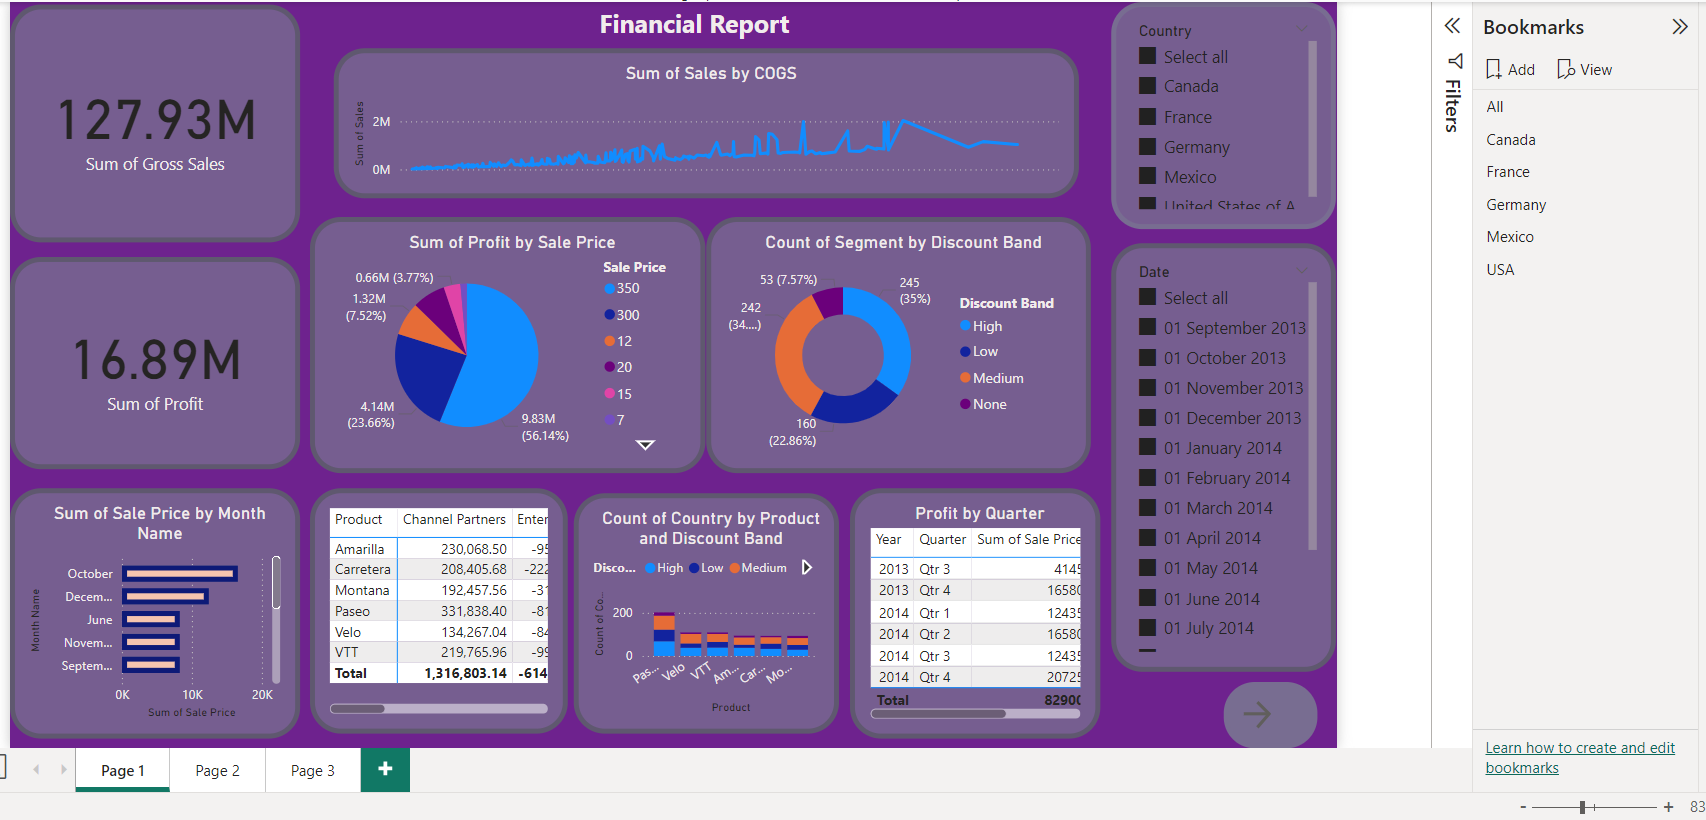

The dashboard page shown, as its layout file describes it:
{"tool":"powerbi","page":{"name":"Page 1","canvas":[1280,720],"ordinal":0},"visuals":[{"type":"tableEx","title":"Profit by Quarter","fields":{"Values":["Sheet1.Date.Variation.Date Hierarchy.Year","Sheet1.Date.Variation.Date Hierarchy.Quarter","Sum(Sheet1.Sale Price)","Sum(Sheet1.Profit)"]},"box":[810.7,469.3,241.3,241.3],"z":0},{"type":"card","fields":{"Values":["Sum(Sheet1.Gross Sales)"]},"box":[0,2.4,279.9,229.2],"z":1000},{"type":"card","fields":{"Values":["Sum(Sheet1.Profit)"]},"box":[0,246.1,279.9,205.1],"z":2000},{"type":"clusteredBarChart","fields":{"Y":["Sum(Sheet1.Sale Price)"],"Category":["Sheet1.Month Name"]},"box":[0,469.3,279.9,241.3],"z":3000},{"type":"donutChart","fields":{"Y":["CountNonNull(Sheet1.Segment)"],"Series":["Sheet1.Discount Band"]},"box":[672,207.5,371.6,247.3],"z":4000},{"type":"pivotTable","fields":{"Values":["Sum(Sheet1.Profit)"],"Rows":["Sheet1.Product"],"Columns":["Sheet1.Segment"]},"box":[289.5,469.3,248.5,236.5],"z":5000},{"type":"pieChart","fields":{"Y":["Sum(Sheet1.Profit)"],"Category":["Sheet1.Sale Price"]},"box":[289.5,207.5,381.2,247.3],"z":6000},{"type":"columnChart","fields":{"Y":["CountNonNull(Sheet1.Country)"],"Series":["Sheet1.Discount Band"],"Category":["Sheet1.Product"]},"box":[544.1,474.1,255.8,231.6],"z":7000},{"type":"lineChart","fields":{"Category":["Sheet1.COGS"],"Y":["Sum(Sheet1. Sales)"]},"box":[312.5,44.6,719,144.8],"z":8000},{"type":"slicer","fields":{"Values":["Sheet1.Country"]},"box":[1063.5,0,216.8,219.6],"z":9000},{"type":"slicer","fields":{"Values":["Sheet1.Date"]},"box":[1062.9,232.8,217.2,413.8],"z":10000},{"type":"textbox","box":[289.5,0,742,44.6],"z":11000},{"type":"actionButton","title":"Net Page","box":[1171.5,656.3,90.5,63.9],"z":12000}]}

Visuals, with their boxes on the page's 1280x720 design canvas (x1, y1, x2, y2). These are canvas units, not pixel positions in the 1706x820 screenshot, which may show the page scaled, cropped or inside an application window:
"Profit by Quarter" tableEx: <region>811, 469, 1052, 711</region>
card - Sum(Sheet1.Gross Sales): <region>0, 2, 280, 232</region>
card - Sum(Sheet1.Profit): <region>0, 246, 280, 451</region>
clusteredBarChart - Sum(Sheet1.Sale Price) x Sheet1.Month Name: <region>0, 469, 280, 711</region>
donutChart - CountNonNull(Sheet1.Segment) x Sheet1.Discount Band: <region>672, 208, 1044, 455</region>
pivotTable - Sum(Sheet1.Profit) x Sheet1.Product: <region>290, 469, 538, 706</region>
pieChart - Sum(Sheet1.Profit) x Sheet1.Sale Price: <region>290, 208, 671, 455</region>
columnChart - CountNonNull(Sheet1.Country) x Sheet1.Discount Band: <region>544, 474, 800, 706</region>
lineChart - Sheet1.COGS x Sum(Sheet1. Sales): <region>312, 45, 1032, 189</region>
slicer - Sheet1.Country: <region>1064, 0, 1280, 220</region>
slicer - Sheet1.Date: <region>1063, 233, 1280, 647</region>
textbox: <region>290, 0, 1032, 45</region>
"Net Page" actionButton: <region>1172, 656, 1262, 720</region>
